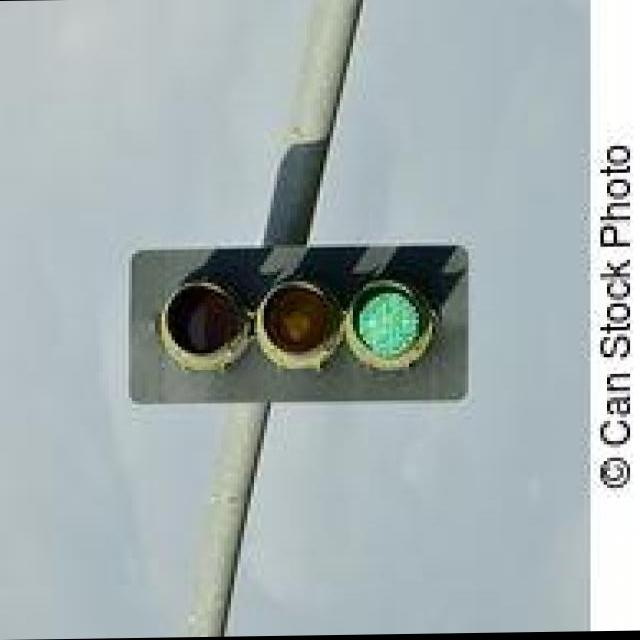green light: (162, 273, 436, 370)
